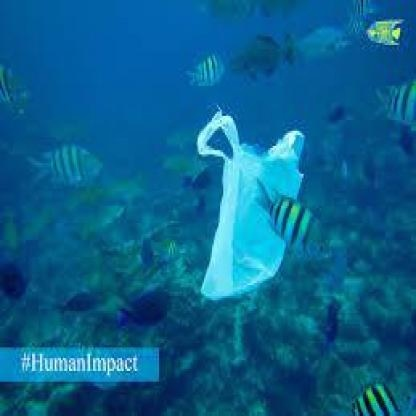pbag: (196, 103, 305, 304)
